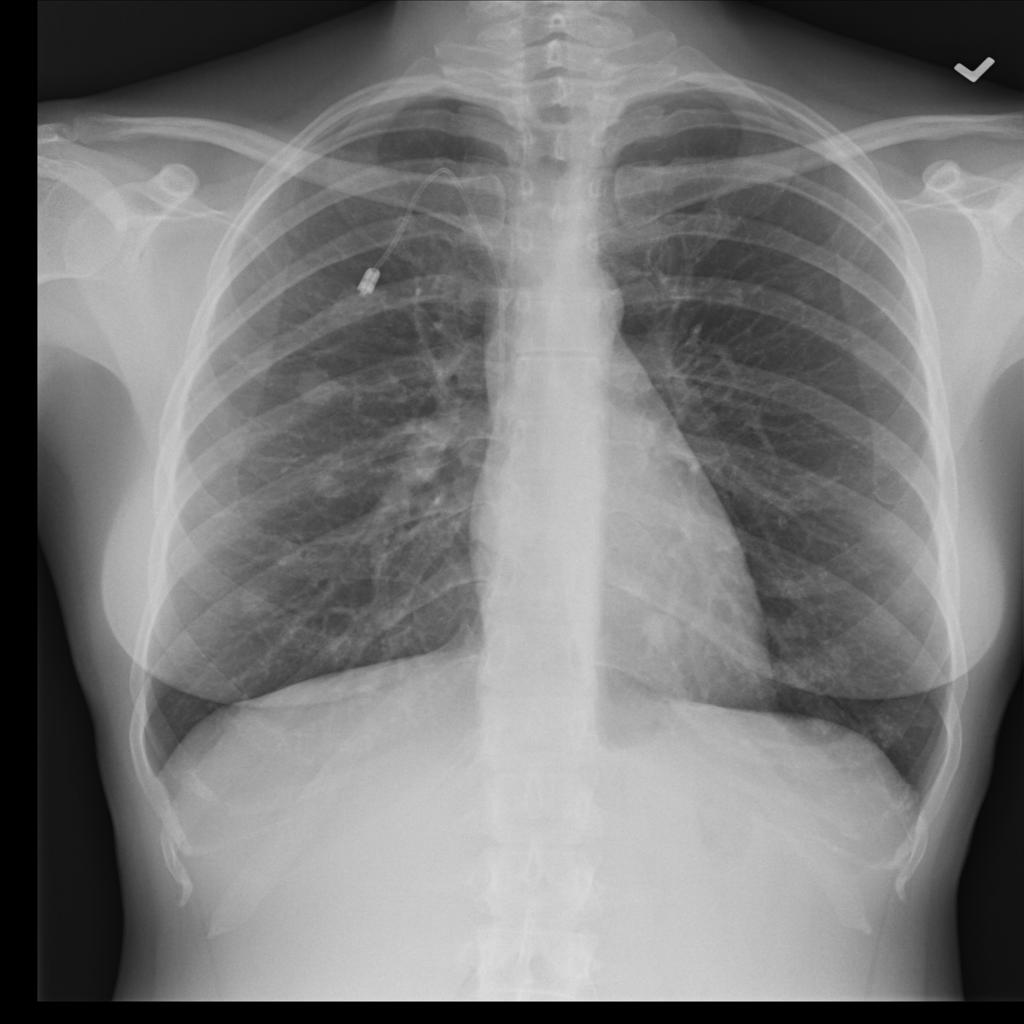nodule: (279, 351, 356, 419), (624, 595, 696, 665), (297, 447, 365, 513), (227, 572, 284, 620)
